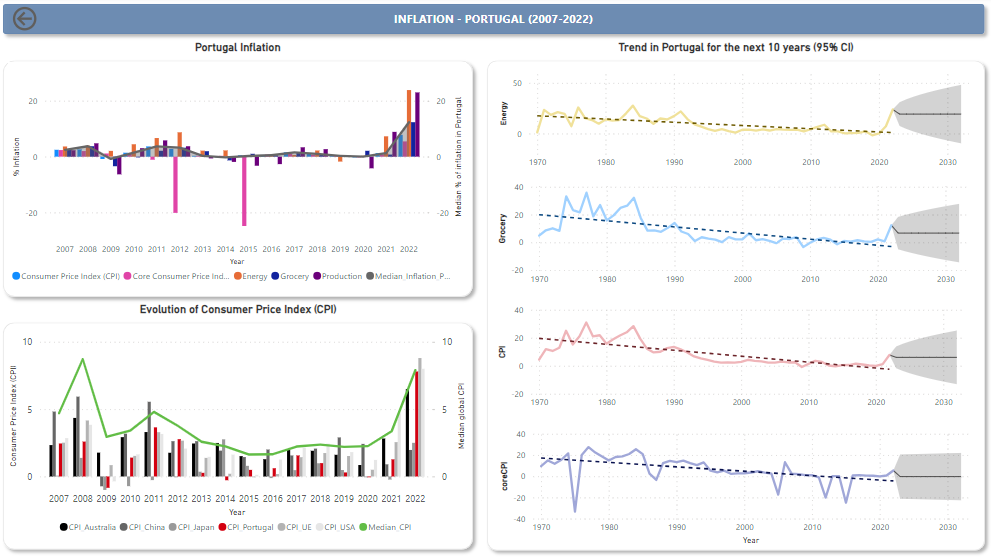

This screenshot's page, from the dashboard's own definition file:
{"tool":"powerbi","page":{"name":"Portugal","canvas":[1280,720],"ordinal":1},"visuals":[{"type":"shape","title":"Evolution of Consumer Price Index (CPI)","box":[0,394,622,326],"z":0},{"type":"shape","box":[0,0,1279.7,56.4],"z":1000},{"type":"shape","title":"Portugal Inflation","box":[0,56,622,338],"z":2000},{"type":"actionButton","box":[16.1,8.1,46.6,40.3],"z":3000},{"type":"shape","title":"Trend in Portugal for the next 10 years (95% CI)","box":[622,56,658,664],"z":4000},{"type":"lineClusteredColumnComboChart","title":"Inflação em Portugal","fields":{"Category":["Ano.Ano"],"Series":["tipo_de_inflacao.tipo_inflacao"],"Y":["Medidas.total_inflacao"],"Y2":["Medidas.Mediana_Portugal"]},"box":[16,83,589,293],"z":5000},{"type":"lineClusteredColumnComboChart","fields":{"Category":["Ano.Ano"],"Y":["_Medidas.CPI_Australia","_Medidas.CPI_China","_Medidas.CPI_Japan","_Medidas.CPI_Portugal","_Medidas.CPI_UE","_Medidas.CPI_USA"],"Y2":["_Medidas.Mediana_CPI"]},"box":[12,429,597,270],"z":6000},{"type":"lineChart","fields":{"Category":["Calendario.Date.Variação.Hierarquia de Datas.Ano","Calendario.Date.Variação.Hierarquia de Datas.Trimestre","Calendario.Date.Variação.Hierarquia de Datas.Mês","Calendario.Date.Variação.Hierarquia de Datas.Dia"],"Y":["_Medidas.Inflacao_Energia_PT"]},"box":[643,83,615,147],"z":7000},{"type":"lineChart","fields":{"Category":["Calendario.Date.Variação.Hierarquia de Datas.Ano","Calendario.Date.Variação.Hierarquia de Datas.Trimestre","Calendario.Date.Variação.Hierarquia de Datas.Mês","Calendario.Date.Variação.Hierarquia de Datas.Dia"],"Y":["_Medidas.I_Alimentar_Portugal"]},"box":[640,230,615,150],"z":8000},{"type":"lineChart","fields":{"Category":["Calendario.Date.Variação.Hierarquia de Datas.Ano","Calendario.Date.Variação.Hierarquia de Datas.Trimestre","Calendario.Date.Variação.Hierarquia de Datas.Mês","Calendario.Date.Variação.Hierarquia de Datas.Dia"],"Y":["_Medidas.CPI_Portugal"]},"box":[640,388,612,151],"z":9000},{"type":"lineChart","fields":{"Category":["Calendario.Date.Variação.Hierarquia de Datas.Ano","Calendario.Date.Variação.Hierarquia de Datas.Trimestre","Calendario.Date.Variação.Hierarquia de Datas.Mês","Calendario.Date.Variação.Hierarquia de Datas.Dia"],"Y":["_Medidas.coreCPI_Portugal"]},"box":[643,548,615,161],"z":10000}]}

Visuals, with their boxes in screenshot pixels (x1, y1, x2, y2), scaled from the page's 1280x720 canvas onto the 991x557 screenshot:
"Evolution of Consumer Price Index (CPI)" shape: 0,305,482,556
shape: 0,0,990,44
"Portugal Inflation" shape: 0,43,482,305
actionButton: 12,6,49,37
"Trend in Portugal for the next 10 years (95% CI)" shape: 482,43,990,556
"Inflação em Portugal" lineClusteredColumnComboChart: 12,64,468,291
lineClusteredColumnComboChart - Ano.Ano x _Medidas.CPI_Australia: 9,332,471,541
lineChart - Calendario.Date.Variação.Hierarquia de Datas.Ano x Calendario.Date.Variação.Hierarquia de Datas.Trimestre: 498,64,974,178
lineChart - Calendario.Date.Variação.Hierarquia de Datas.Ano x Calendario.Date.Variação.Hierarquia de Datas.Trimestre: 496,178,972,294
lineChart - Calendario.Date.Variação.Hierarquia de Datas.Ano x Calendario.Date.Variação.Hierarquia de Datas.Trimestre: 496,300,969,417
lineChart - Calendario.Date.Variação.Hierarquia de Datas.Ano x Calendario.Date.Variação.Hierarquia de Datas.Trimestre: 498,424,974,548
